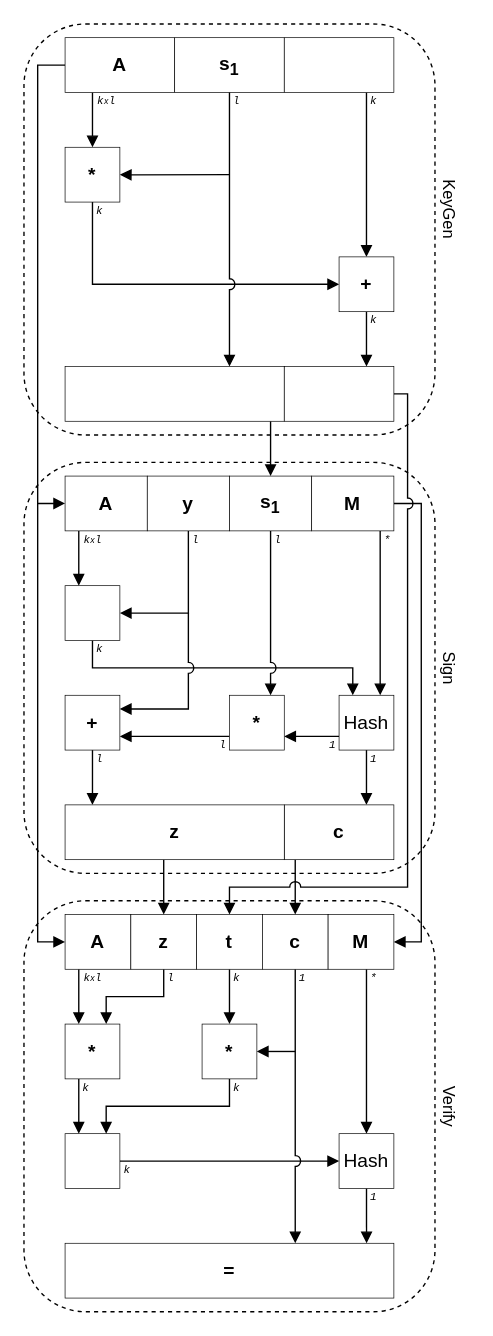
The diagram is 493 pixels wide and 1336 high, and some of its shapes have lost their labels. The centre of each missing label's shape, as x and y in pixels:
HB( * ): the point at 92,612
HB( - ): the point at 92,1160
pk: the point at 338,393
s 2: the point at 338,64
sk: the point at 174,393
